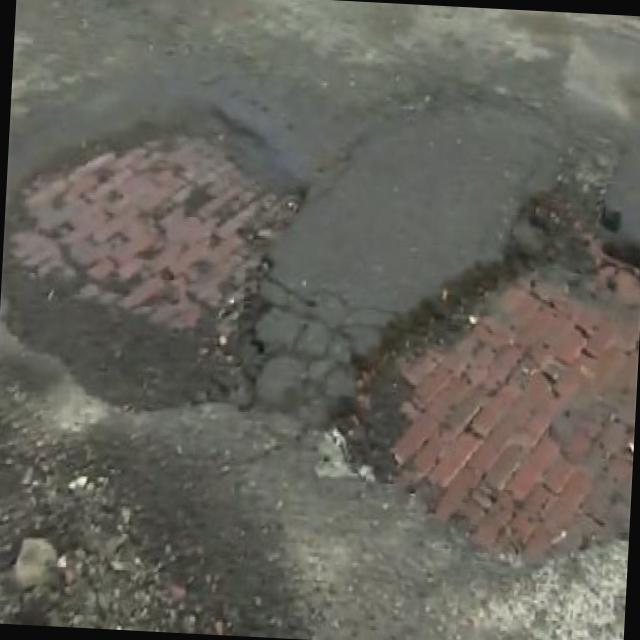Lubang: (327, 198, 640, 572), (8, 137, 300, 406)
